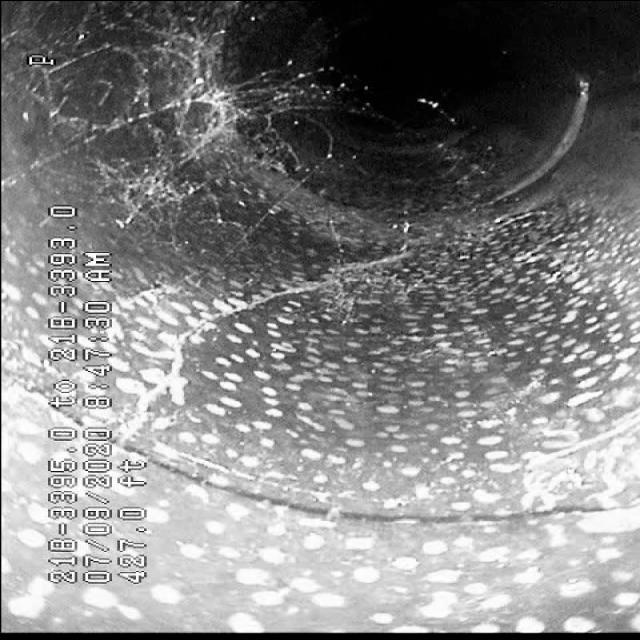Crack: (134, 247, 386, 371)
